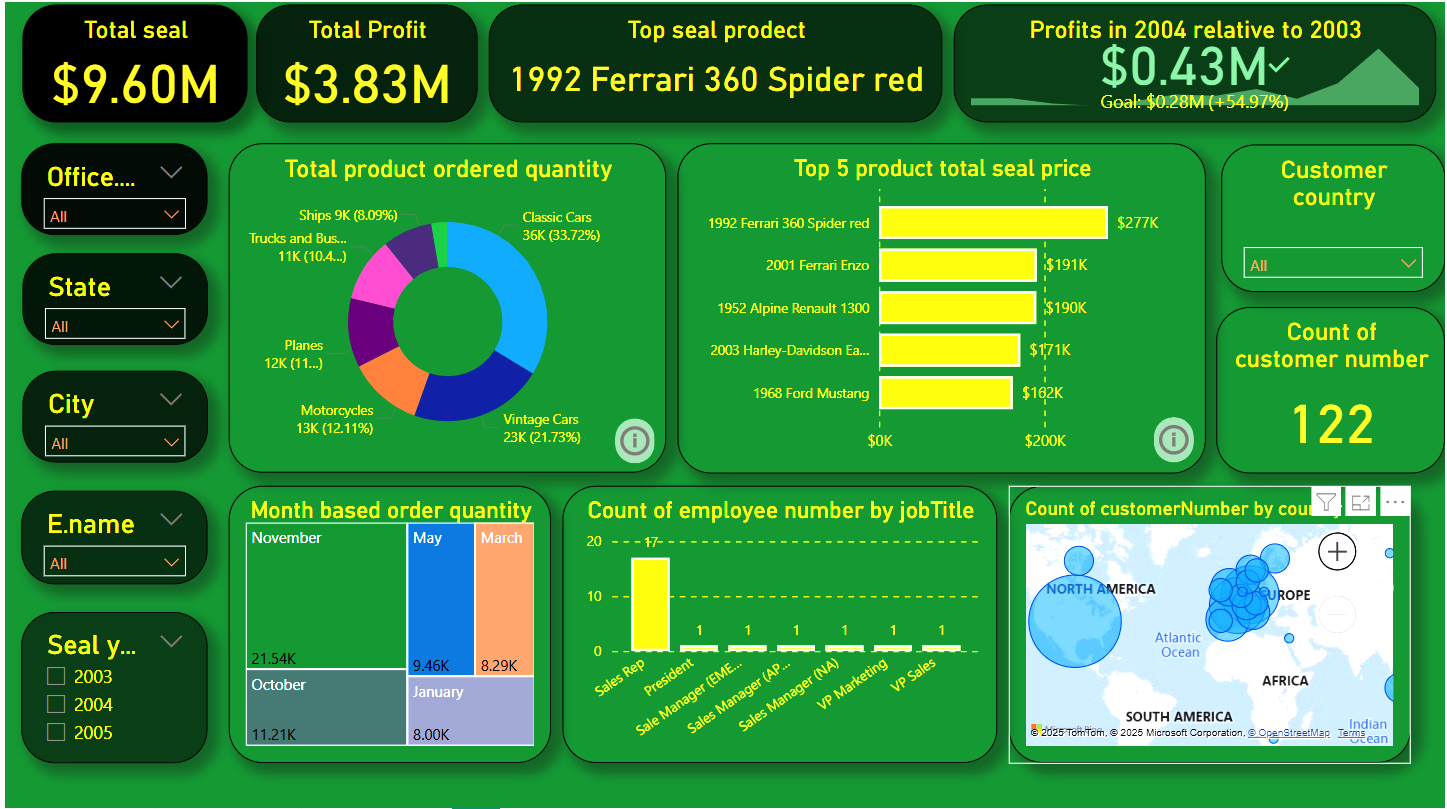

Layout of this report page (visuals, bound fields, positions):
{"tool":"powerbi","page":{"name":"company details","canvas":[1280,720],"ordinal":0},"visuals":[{"type":"card","title":"Total Profit","fields":{"Values":["order details.total_profit"]},"box":[223.8,2.4,196.4,104.8],"z":0},{"type":"card","title":"Total seal","fields":{"Values":["order details.TotalSales"]},"box":[15.5,2.4,200,104.8],"z":1000},{"type":"card","title":"Top seal prodect","fields":{"Values":["order details.MostOrderedProduct"]},"box":[429.8,2.4,403.6,104.8],"z":2000},{"type":"kpi","title":"Profits in 2004 relative to 2003","fields":{"Goal":["orders.seal_2003"],"TrendLine":["orders.Month Name"],"Indicator":["orders.seal_2004"]},"box":[842.9,2.4,428.6,104.8],"z":3000},{"type":"slicer","title":"order year","fields":{"Values":["orders.order_year"]},"box":[14.6,542.7,165.9,134.1],"z":4000},{"type":"slicer","title":"City","fields":{"Values":["offices.city"]},"box":[15.9,328,164.6,81.7],"z":5000},{"type":"slicer","title":"City","fields":{"Values":["offices.state"]},"box":[15.9,223.2,164.6,81.7],"z":6000},{"type":"donutChart","title":"Total product ordered  quantity ","fields":{"Y":["order details.quantityOrdered"],"Category":["products.productLine"]},"box":[198.8,125.6,389,292.7],"z":7000},{"type":"slicer","title":"City","fields":{"Values":["offices.country"]},"box":[14.6,125.6,165.9,81.7],"z":8000},{"type":"slicer","title":"City","fields":{"Values":["employees.full name"]},"box":[14.6,434.1,165.9,82.9],"z":9000},{"type":"barChart","title":"Top 5 product total seal price","fields":{"Category":["products.productName"],"Y":["order details.seal price"]},"box":[597.6,125.6,469.5,293.9],"z":10000},{"type":"card","title":"Count of customer number","fields":{"Values":["customar.customerNumber"]},"box":[1076.2,271.4,203.6,147.6],"z":11000},{"type":"slicer","title":"Customer country","fields":{"Values":["customar.country"]},"box":[1081,126.2,198.8,131],"z":12000},{"type":"treemap","title":"Month based order quantity","fields":{"Group":["orders.Month Name"],"Values":["order details.quantityOrdered"]},"box":[198.8,430.5,286.6,246.3],"z":13000},{"type":"columnChart","title":"Count of employee number by jobTitle","fields":{"Category":["employees.jobTitle"],"Y":["employees.employeeNumber"]},"box":[495.1,430.5,386.6,246.3],"z":14000},{"type":"map","fields":{"Category":["customar.country"],"Size":["customar.customerNumber"]},"box":[892.7,430.5,357.3,246.3],"z":15000},{"type":"actionButton","box":[542.7,369.5,35.4,40.2],"z":16000},{"type":"actionButton","box":[1021.4,369,35.7,40.5],"z":17000}]}

Visuals, with their boxes in screenshot pixels (x1, y1, x2, y2), scaled from the page's 1280x720 canvas onto the 1447x809 screenshot:
"Total Profit" card: box(253, 3, 475, 120)
"Total seal" card: box(18, 3, 244, 120)
"Top seal prodect" card: box(486, 3, 942, 120)
"Profits in 2004 relative to 2003" kpi: box(953, 3, 1437, 120)
"order year" slicer: box(17, 610, 204, 760)
"City" slicer: box(18, 369, 204, 460)
"City" slicer: box(18, 251, 204, 343)
"Total product ordered  quantity " donutChart: box(225, 141, 664, 470)
"City" slicer: box(17, 141, 204, 233)
"City" slicer: box(17, 488, 204, 581)
"Top 5 product total seal price" barChart: box(676, 141, 1206, 471)
"Count of customer number" card: box(1217, 305, 1446, 471)
"Customer country" slicer: box(1222, 142, 1446, 289)
"Month based order quantity" treemap: box(225, 484, 549, 760)
"Count of employee number by jobTitle" columnChart: box(560, 484, 997, 760)
map - customar.country x customar.customerNumber: box(1009, 484, 1413, 760)
actionButton: box(614, 415, 654, 460)
actionButton: box(1155, 415, 1195, 460)
